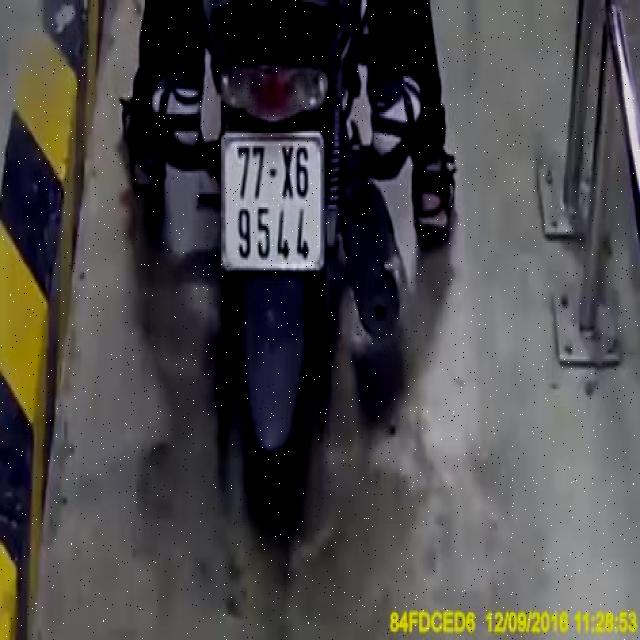4: (296, 207, 311, 260), (276, 207, 290, 260)
5: (255, 204, 272, 262)
6: (294, 144, 310, 202)
7: (235, 145, 252, 200), (251, 143, 267, 200)
9: (236, 207, 252, 259)
X: (281, 142, 294, 202)
